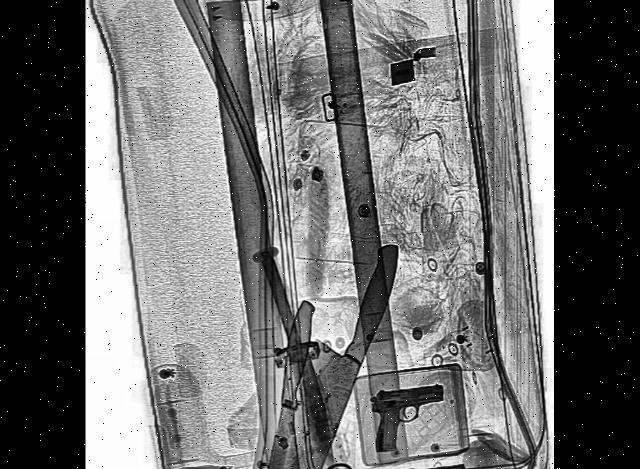Gun: (369, 384, 446, 450), (394, 462, 465, 469)
Knife: (254, 210, 405, 469), (258, 249, 343, 469), (254, 297, 316, 469)
